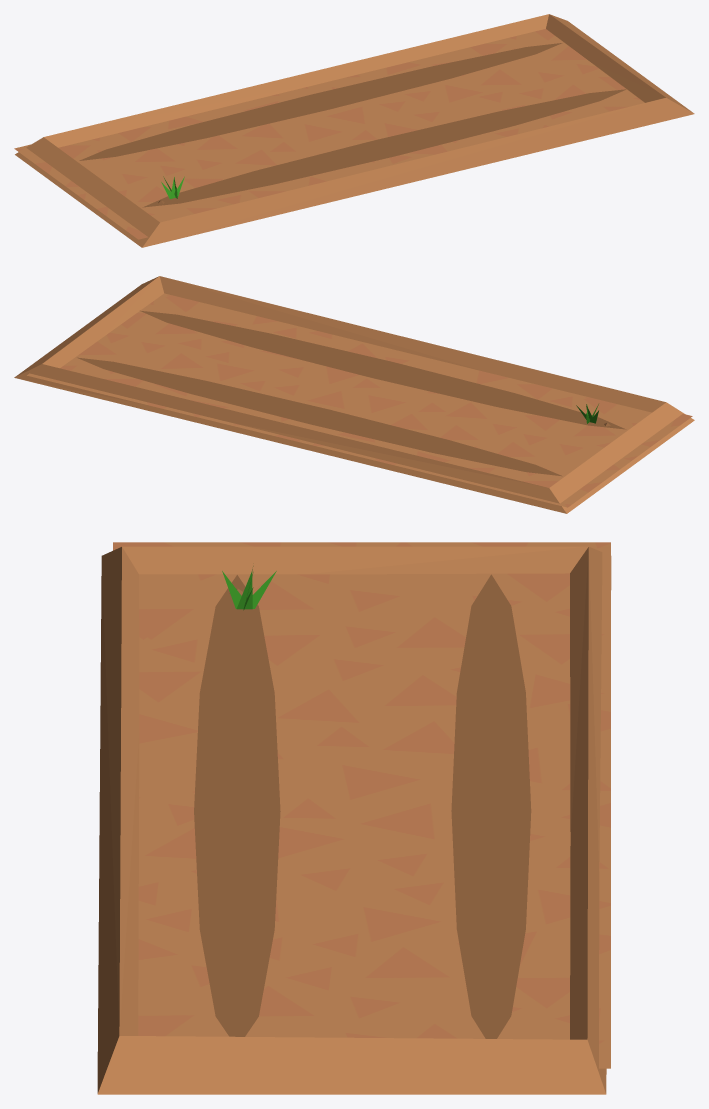
File: grain_plot.glb
3 renders of one model, top to bottom at view 1: azimuth 30°, elevation 25°; view 2: azimuth 150°, elevation 25°; view 3: azimuth 270°, elevation 25°, orthographic. The views are drawn at different scales.
Parts seen in each view (by area): view 1: grain_plot, grain_plot_water; view 2: grain_plot, grain_plot_water; view 3: grain_plot, grain_plot_water.
Part boxes in pixels (bbox=[...]): grain_plot: bbox=[14, 14, 694, 247]; grain_plot_water: bbox=[79, 43, 626, 207]; grain_plot: bbox=[14, 276, 694, 513]; grain_plot_water: bbox=[77, 310, 626, 476]; grain_plot: bbox=[97, 542, 611, 1094]; grain_plot_water: bbox=[194, 574, 531, 1038].
Size of the model in its own units: 5.13 by 0.2485 by 2.06.
4 materials, 1 textured.
